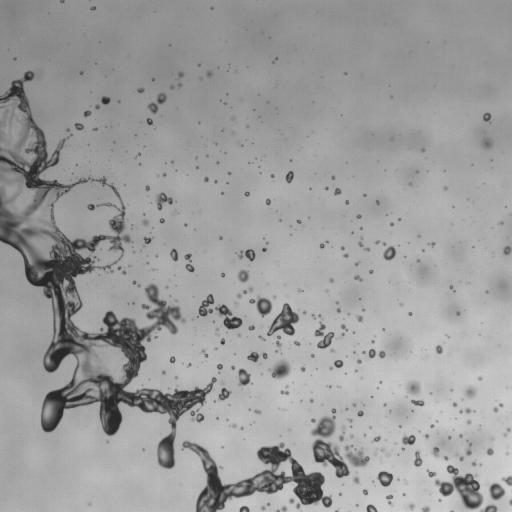droplet: (310, 408, 369, 477), (267, 303, 299, 335), (314, 321, 334, 348), (249, 296, 272, 316), (269, 360, 290, 379), (198, 294, 214, 316), (156, 192, 173, 210), (489, 482, 505, 500), (377, 471, 393, 486), (237, 368, 250, 385), (239, 249, 255, 261), (383, 246, 396, 260), (406, 381, 420, 394), (464, 386, 476, 398), (218, 388, 230, 400), (362, 348, 376, 358), (238, 270, 249, 282), (402, 435, 415, 445), (414, 451, 422, 466), (502, 476, 511, 486), (285, 171, 293, 182), (170, 249, 178, 260), (366, 504, 377, 511), (101, 96, 110, 104), (483, 139, 491, 148), (503, 246, 511, 254), (334, 360, 343, 367), (432, 447, 439, 456), (483, 113, 490, 121), (75, 123, 83, 130), (435, 345, 442, 353), (378, 350, 385, 358), (87, 204, 96, 210), (239, 506, 249, 511), (334, 188, 341, 195), (486, 448, 493, 455), (144, 237, 152, 243), (280, 388, 288, 394), (83, 110, 90, 116), (341, 324, 347, 331), (372, 436, 380, 441), (421, 506, 429, 511), (146, 118, 152, 124), (356, 315, 362, 321), (357, 410, 363, 416), (353, 477, 359, 483), (408, 503, 414, 509), (0, 120, 5, 127), (354, 275, 361, 280), (170, 356, 175, 363), (465, 408, 472, 413), (178, 71, 183, 77), (143, 219, 148, 225), (248, 325, 254, 330), (217, 364, 222, 370), (289, 497, 294, 503), (137, 88, 144, 92), (206, 71, 211, 76), (159, 218, 164, 223), (266, 199, 270, 205), (294, 341, 300, 345), (145, 185, 149, 190), (358, 241, 362, 246), (320, 243, 324, 248), (429, 242, 434, 246), (364, 247, 369, 251), (343, 253, 348, 257), (259, 336, 264, 340), (220, 339, 224, 344), (357, 358, 361, 363), (301, 366, 305, 371), (459, 456, 463, 461), (472, 461, 476, 466), (363, 489, 367, 494), (255, 410, 261, 413), (91, 6, 95, 10), (95, 105, 99, 109), (204, 177, 208, 181), (245, 192, 249, 196), (357, 214, 361, 218), (297, 219, 301, 223), (132, 280, 136, 284), (336, 308, 340, 312), (456, 311, 460, 315), (467, 420, 471, 424), (381, 448, 385, 452), (444, 456, 448, 460), (230, 424, 235, 427), (117, 266, 121, 269), (122, 270, 125, 274), (330, 278, 333, 282), (330, 349, 334, 352), (187, 363, 191, 366), (478, 377, 482, 380), (309, 399, 313, 402), (348, 418, 351, 422), (424, 434, 428, 437), (386, 452, 389, 456), (261, 506, 264, 510), (271, 174, 274, 177), (376, 201, 379, 204), (390, 222, 393, 225), (263, 248, 266, 251), (221, 273, 224, 276), (298, 289, 301, 292), (303, 311, 306, 314), (231, 366, 234, 369), (453, 403, 456, 406), (430, 424, 433, 427), (507, 428, 510, 431), (60, 0, 64, 2), (375, 241, 379, 243), (178, 84, 181, 86), (170, 86, 173, 88), (94, 128, 97, 130), (163, 173, 165, 176), (331, 176, 334, 178), (214, 180, 217, 182), (325, 187, 328, 189), (345, 201, 348, 203), (383, 242, 385, 245), (341, 247, 344, 249), (356, 262, 359, 264), (370, 270, 372, 273), (449, 286, 452, 288), (409, 312, 411, 315), (311, 354, 313, 357), (162, 371, 165, 373), (353, 403, 355, 406), (459, 410, 462, 412), (240, 427, 243, 429), (504, 433, 506, 436), (350, 435, 353, 437), (459, 435, 462, 437), (422, 149, 424, 151), (444, 187, 446, 189), (417, 259, 419, 261), (273, 296, 275, 298), (362, 309, 364, 311), (312, 315, 314, 317), (330, 367, 332, 369), (355, 369, 357, 371), (439, 499, 441, 501), (267, 503, 269, 505)
ligament: (0, 71, 216, 468), (182, 440, 332, 511), (427, 465, 497, 511), (215, 304, 242, 329), (148, 93, 166, 113), (247, 352, 267, 362), (184, 253, 194, 272), (237, 287, 252, 298), (98, 202, 116, 207), (493, 403, 503, 412), (339, 427, 345, 441), (411, 400, 424, 406), (386, 494, 392, 505), (276, 336, 281, 347), (466, 444, 471, 455), (276, 506, 287, 511), (201, 349, 207, 357), (3, 110, 8, 119), (509, 499, 511, 505), (0, 135, 1, 139), (335, 510, 339, 511)
